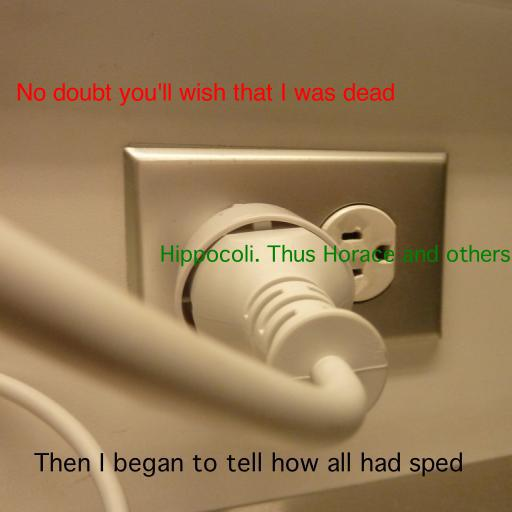Geneva: (33, 452, 463, 477), (159, 244, 511, 267)
Helvetica: (15, 83, 395, 106)
